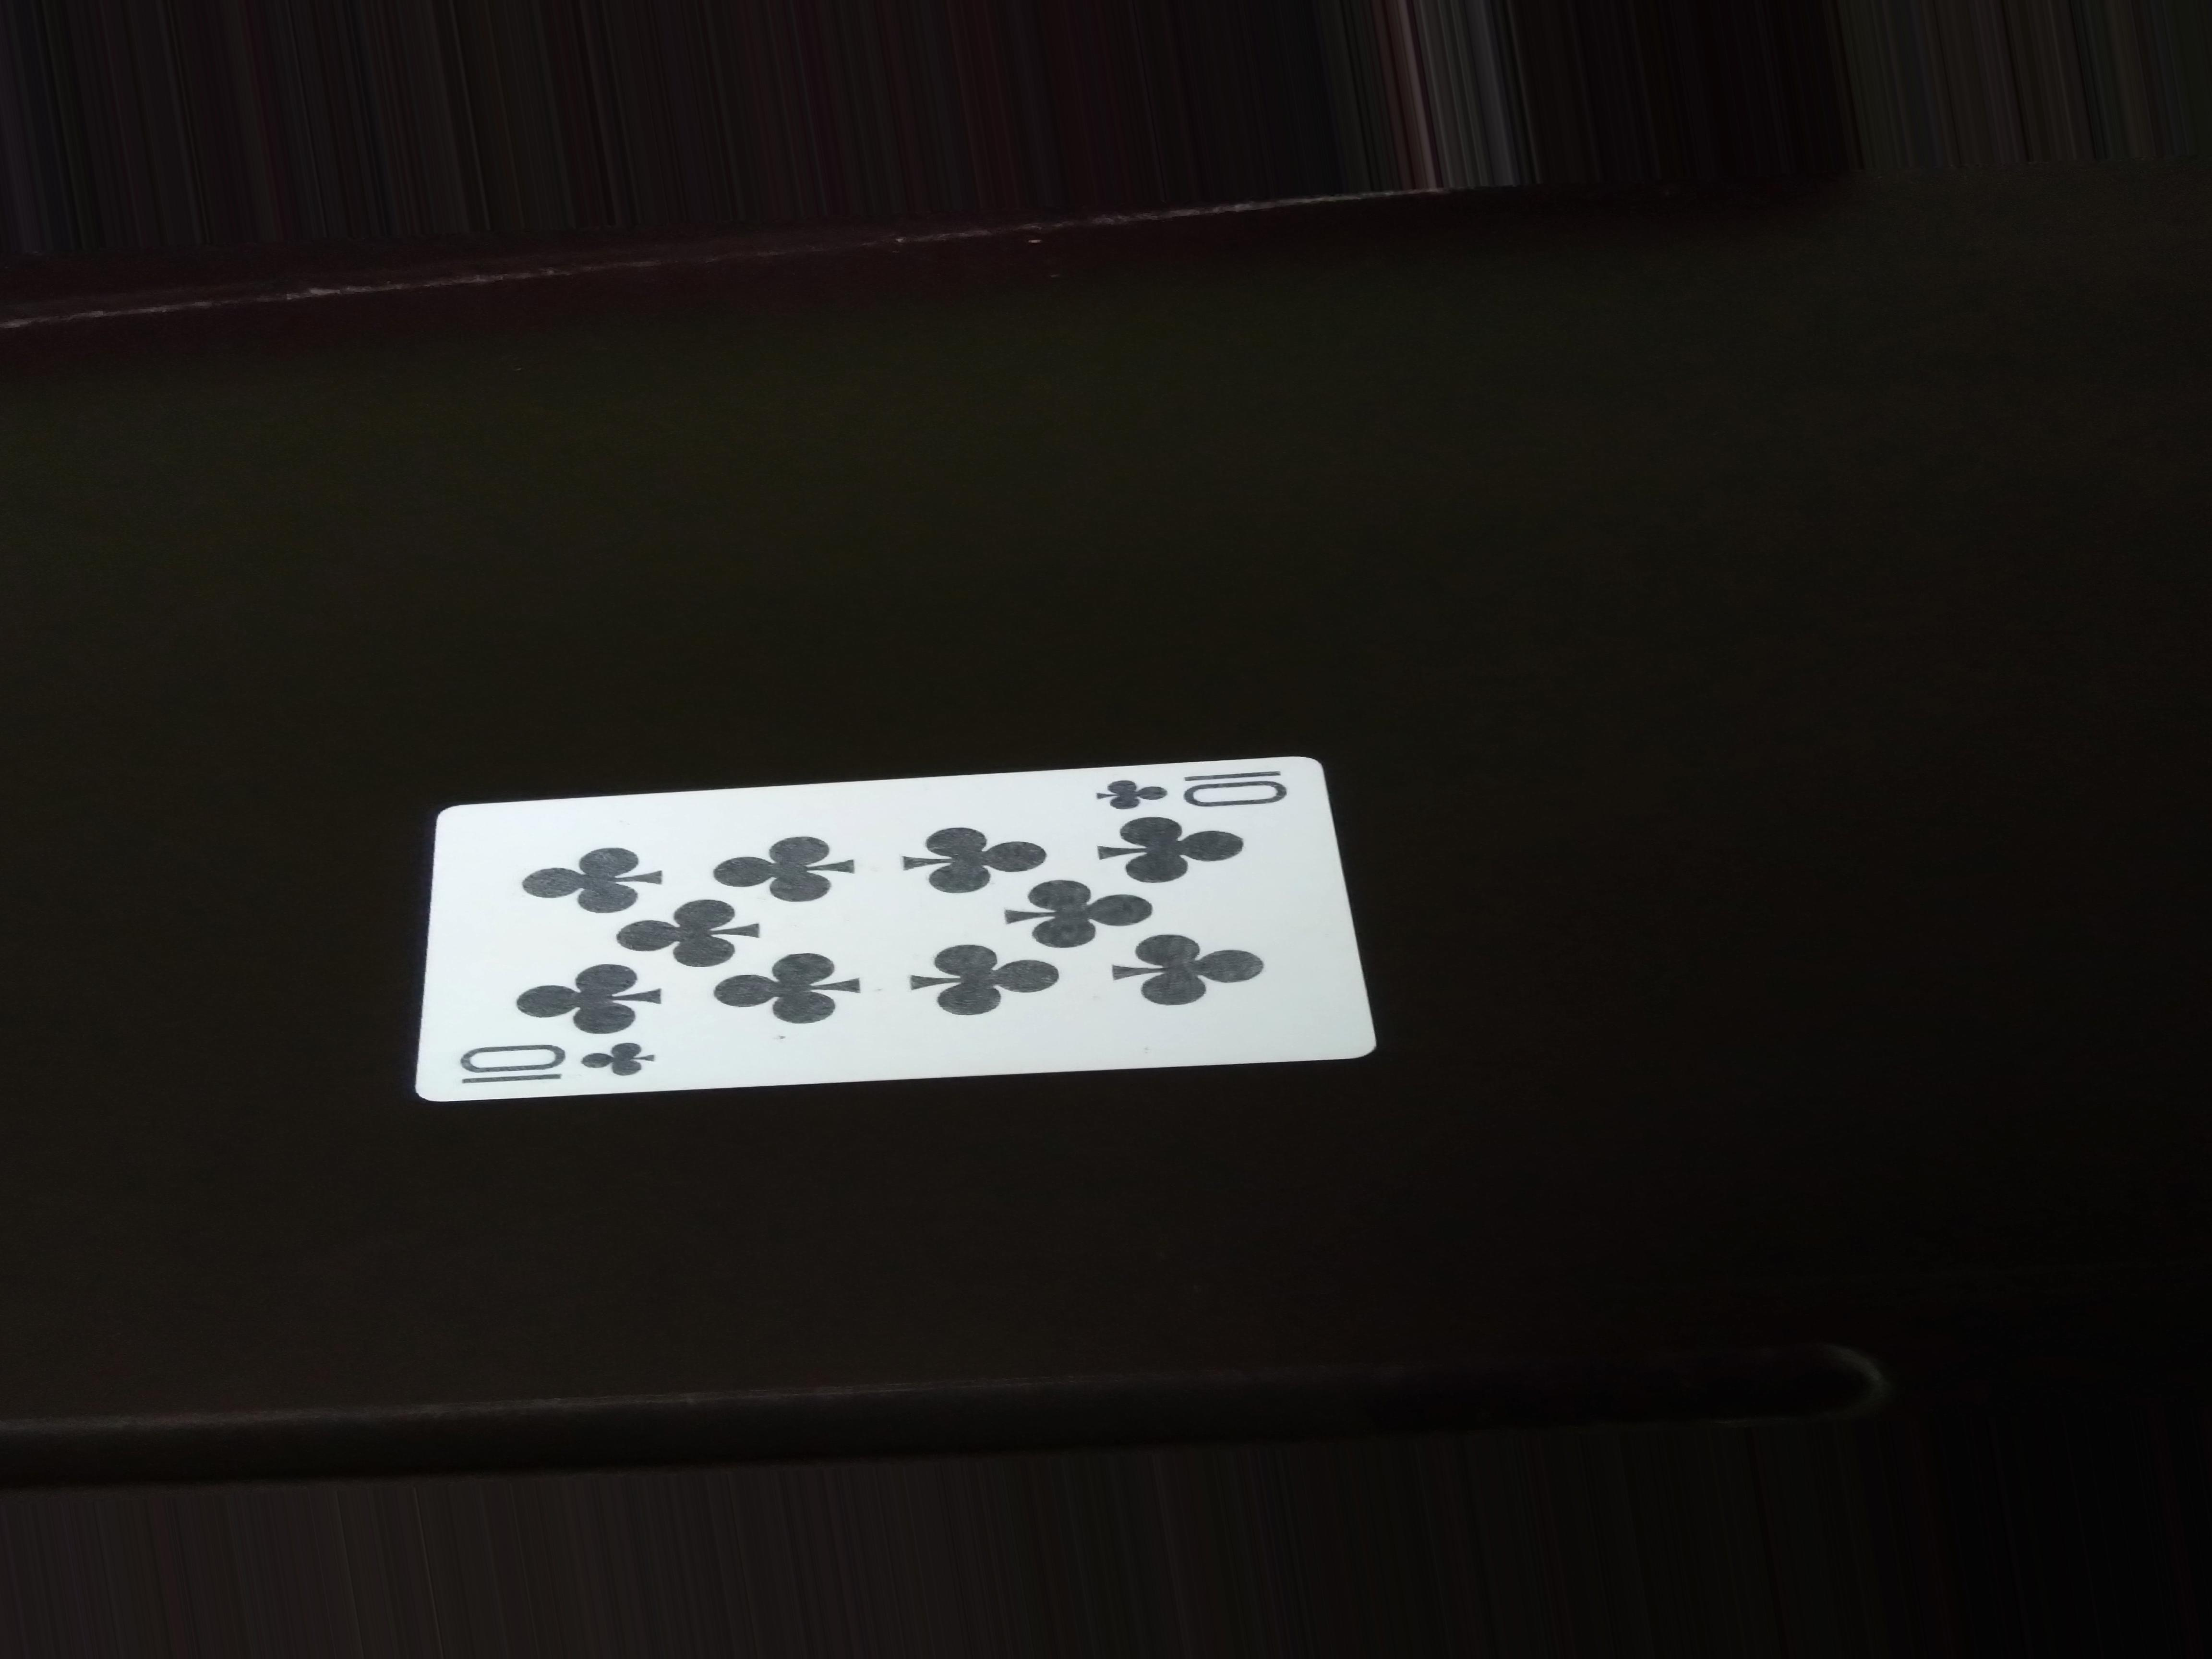10C: (1073, 763, 1317, 824)
